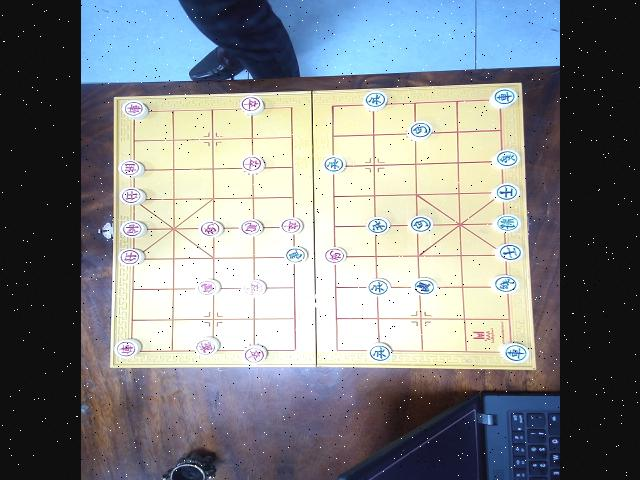piece: (499, 342, 528, 362), (489, 274, 518, 293), (489, 88, 516, 108), (491, 149, 519, 168), (193, 336, 219, 356), (492, 214, 520, 232), (491, 183, 519, 201), (121, 100, 147, 119), (113, 339, 140, 357), (494, 243, 522, 260), (406, 121, 431, 140), (118, 159, 144, 177), (363, 90, 386, 110), (119, 220, 146, 237), (117, 248, 144, 265), (367, 342, 391, 361), (411, 277, 436, 295), (119, 187, 145, 204), (243, 344, 266, 363), (239, 96, 263, 114), (240, 155, 264, 173), (407, 215, 432, 232), (322, 155, 345, 173), (365, 217, 389, 234), (238, 218, 262, 235), (197, 220, 222, 236), (367, 278, 390, 295), (196, 278, 220, 294), (243, 279, 266, 295), (323, 247, 346, 263), (279, 217, 302, 233), (284, 246, 306, 262)
